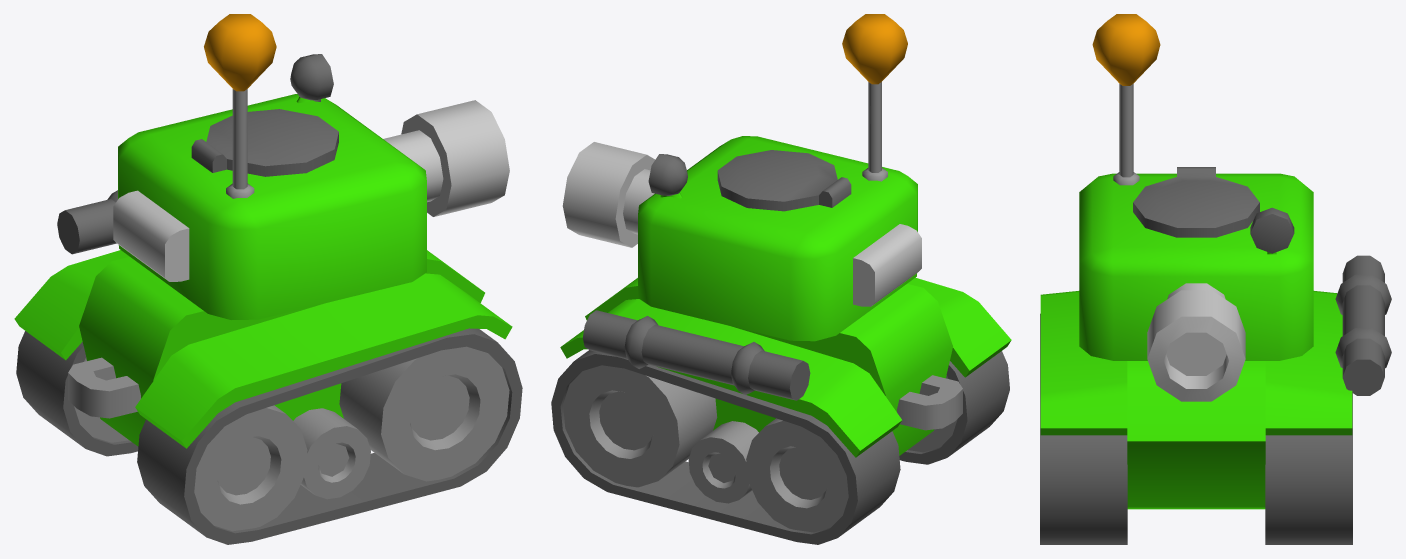
Rendered from Tank2_w.fbx.
3 renders of one model, left to right at view 1: azimuth 30°, elevation 25°; view 2: azimuth 150°, elevation 25°; view 3: azimuth 270°, elevation 25°, orthographic. The views are drawn at different scales.
Parts seen in each view (by area): view 1: Tank_02, Tank_Top_02, Antenna_1, Log; view 2: Tank_02, Tank_Top_02, Log, Antenna_1; view 3: Tank_02, Tank_Top_02, Log, Antenna_1.
Boxes of the visible parts, x1,y1,x2,y2 form: Tank_02: (14, 250, 522, 544); Tank_Top_02: (113, 54, 509, 319); Antenna_1: (204, 14, 276, 198); Log: (57, 190, 117, 254); Tank_02: (551, 277, 1011, 544); Tank_Top_02: (562, 136, 921, 341); Log: (582, 310, 810, 400); Antenna_1: (842, 14, 907, 181); Tank_02: (1040, 291, 1352, 544); Tank_Top_02: (1079, 167, 1313, 401); Log: (1335, 255, 1391, 395); Antenna_1: (1092, 14, 1160, 185).
Size of the model in its own units: 57.16 by 63.58 by 45.58.
